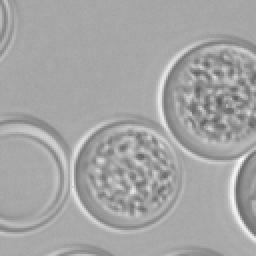picoshell: (70, 114, 184, 232), (158, 36, 254, 164), (0, 114, 68, 234), (228, 152, 254, 240), (44, 244, 112, 254), (164, 248, 220, 254)
